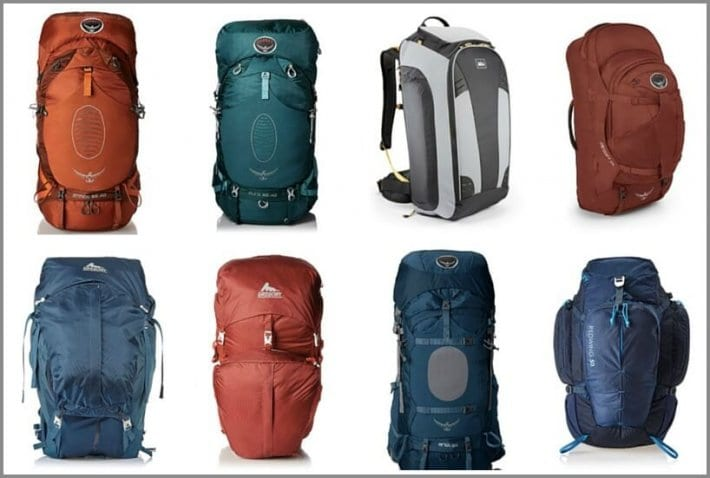backpack: (19, 249, 176, 466), (545, 249, 699, 464), (370, 13, 518, 224), (376, 241, 510, 473), (558, 12, 693, 226), (207, 248, 337, 469), (29, 8, 151, 241), (202, 15, 330, 233)
